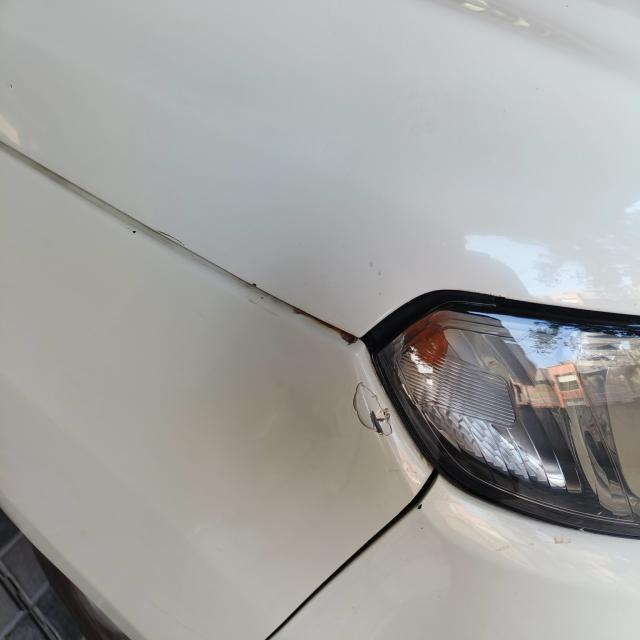scratch: (347, 380, 398, 444)
